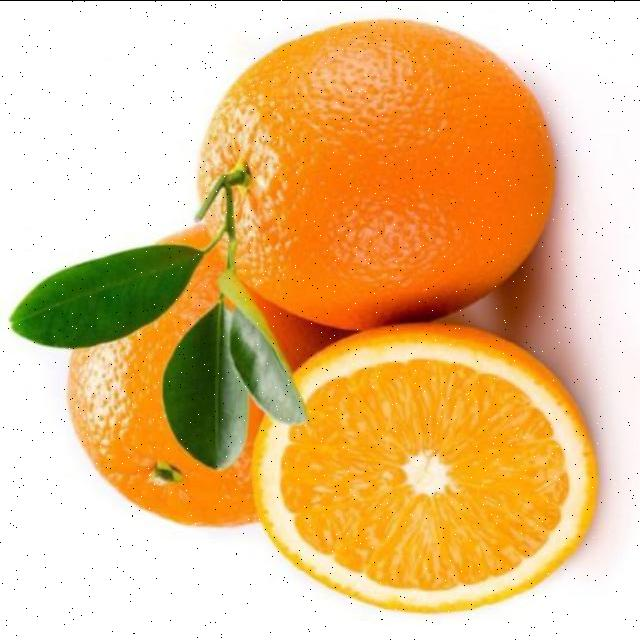Orange: (194, 18, 556, 332), (249, 321, 599, 615), (64, 222, 342, 529)
